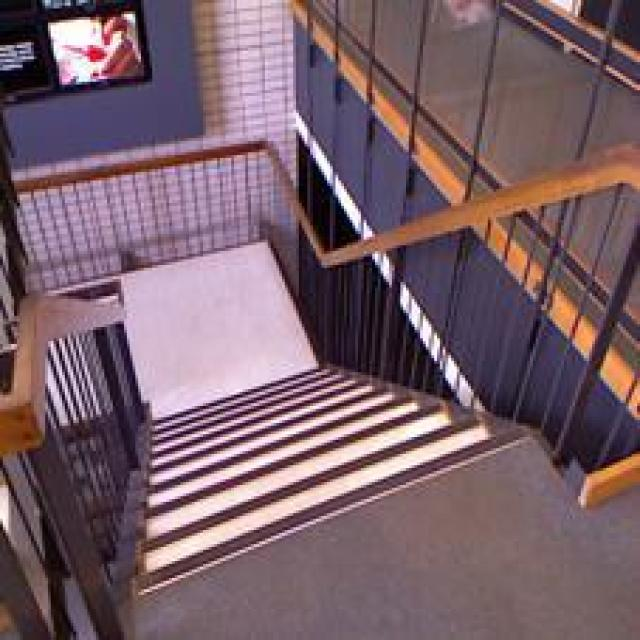downstair: (136, 421, 517, 607)
